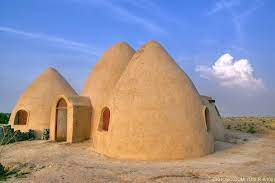Mud House: (85, 45, 212, 162), (11, 62, 89, 154)
